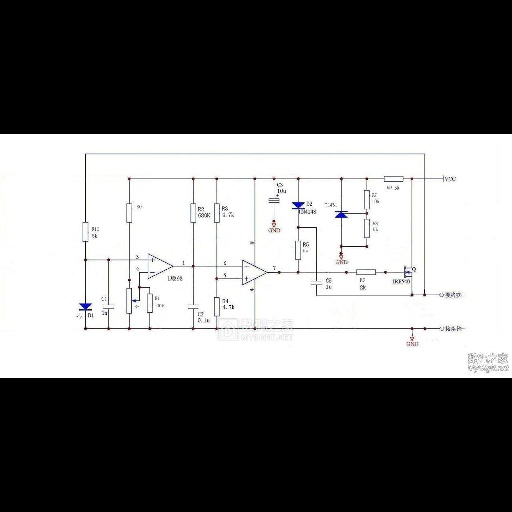amplifier: (145, 249, 173, 280), (239, 259, 269, 287)
capacitor: (309, 277, 324, 288), (101, 302, 118, 311), (185, 302, 201, 311)
firstdiode: (332, 209, 350, 221), (76, 301, 94, 312), (291, 199, 306, 210)
firstresistance: (360, 186, 371, 212), (123, 202, 135, 225), (360, 216, 372, 239), (354, 266, 378, 277), (80, 219, 90, 245), (380, 173, 406, 183), (212, 201, 222, 226), (211, 295, 221, 320), (145, 292, 154, 315), (189, 201, 197, 226), (294, 238, 302, 263)
